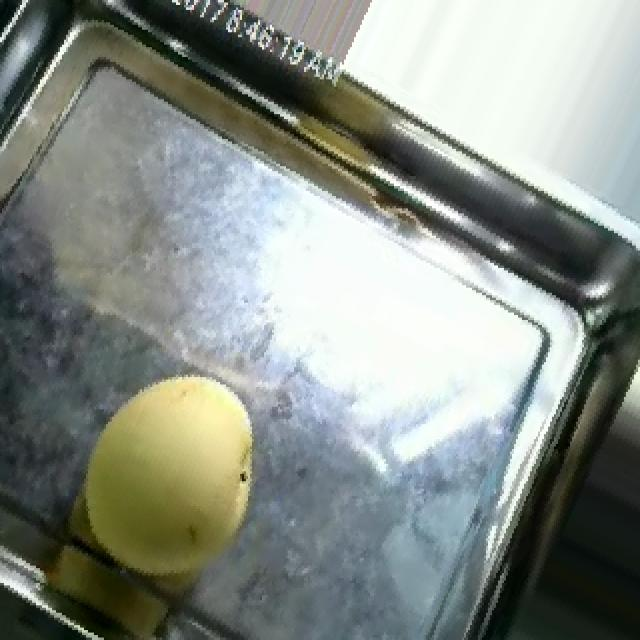Fruit: (34, 337, 300, 640)
